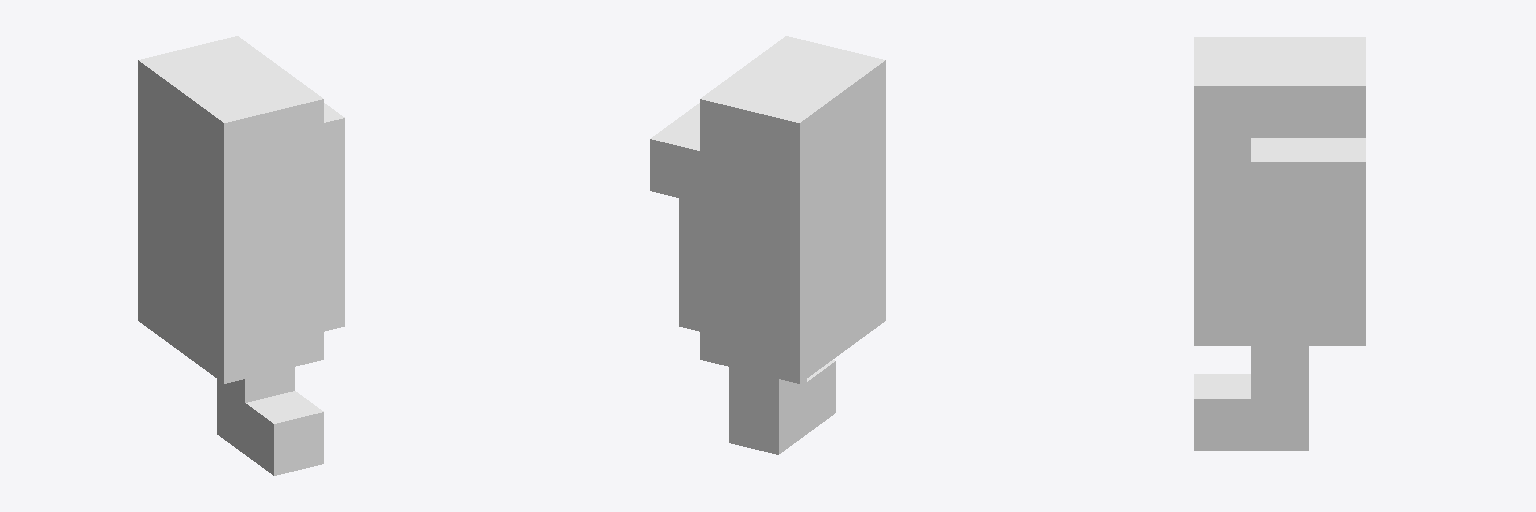
File: Man_E.obj
3 renders of one model, left to right at view 1: azimuth 30°, elevation 25°; view 2: azimuth 150°, elevation 25°; view 3: azimuth 270°, elevation 25°, orthographic.
Visible parts, largest first — view 1: object 1; view 2: object 1; view 3: object 1.
Part boxes in pixels (left/top/right/bottom): object 1: left=138, top=36, right=344, bottom=475; object 1: left=650, top=36, right=885, bottom=454; object 1: left=1194, top=37, right=1365, bottom=450.
Bounding box in the file's own units: 0.3 × 0.7 × 0.3.